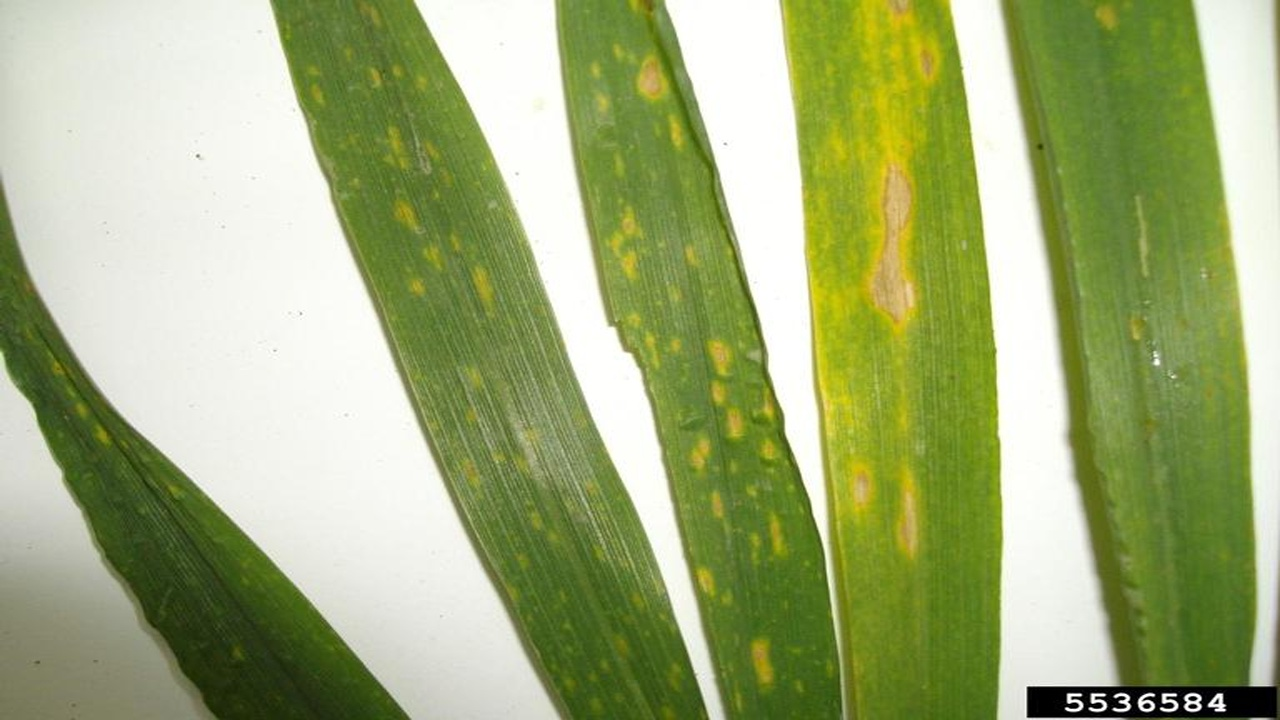tan_spot: (271, 1, 772, 720), (779, 1, 1005, 720)
